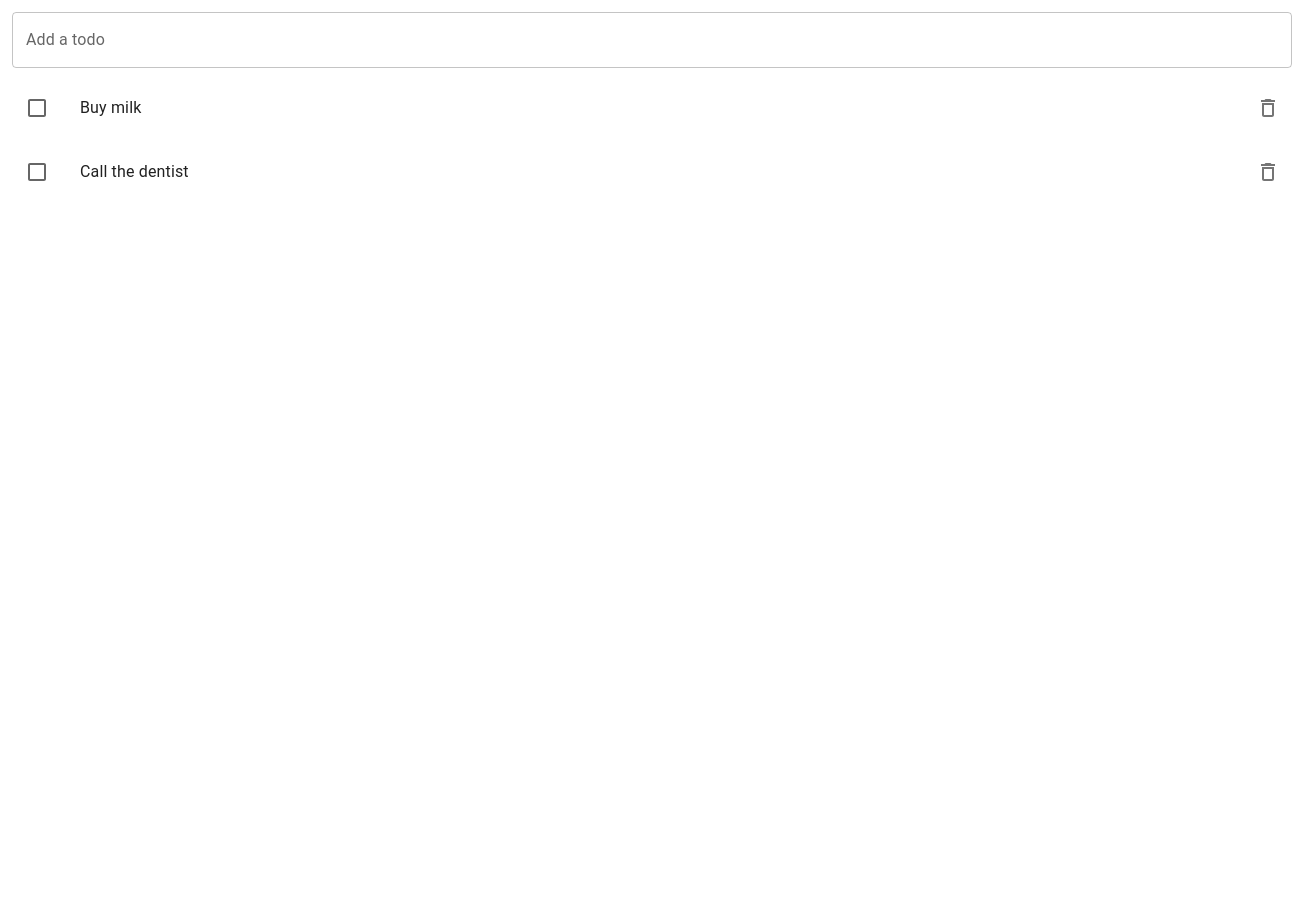
deleting a todo takes it off the page right away and deletes it
Step 1. Click the button named "Delete Buy milk" → (1268, 108), box x1=1248 y1=88 x2=1288 y2=128
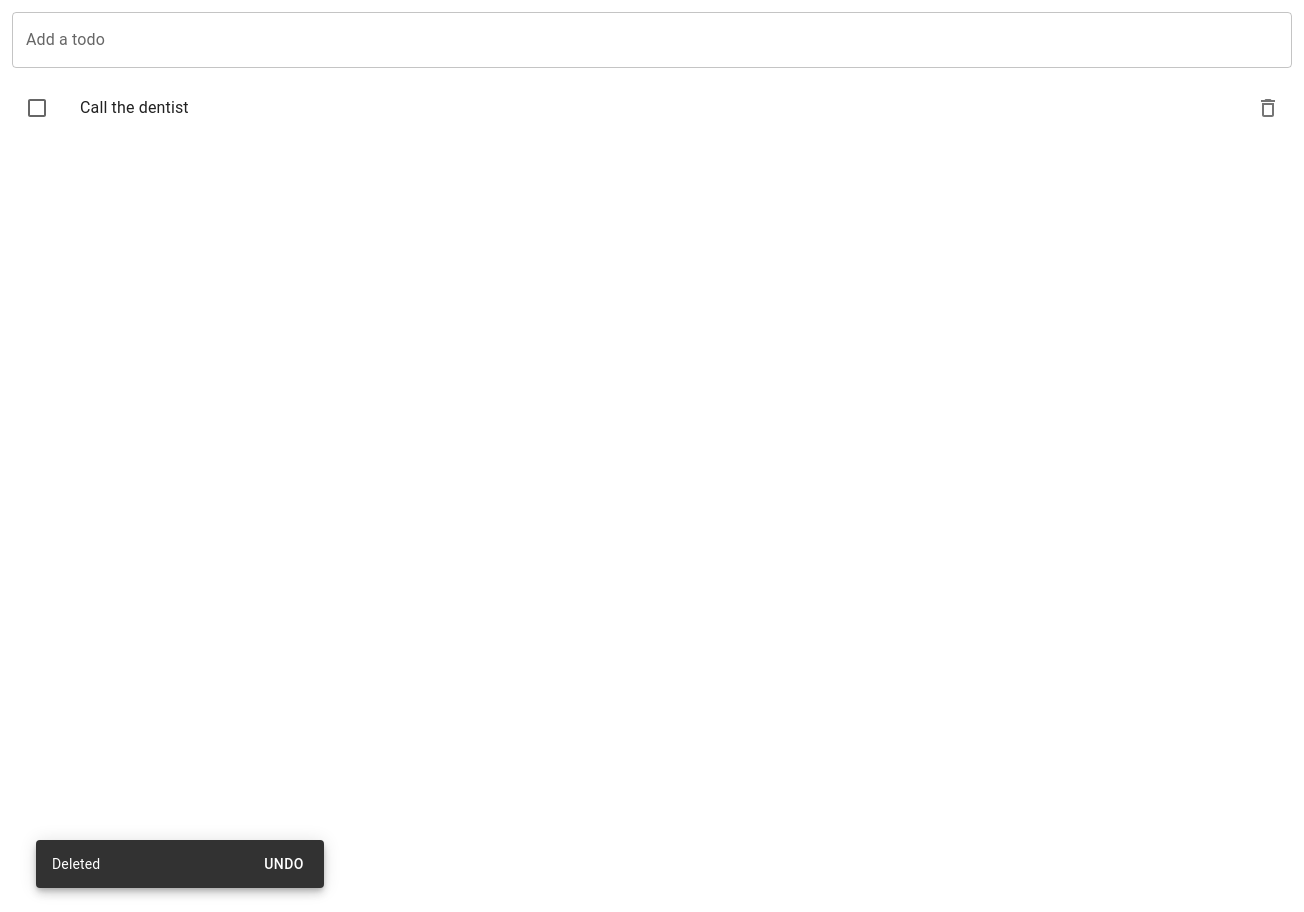
Expected: the text "Call the dentist" is shown, x1=80 y1=98 x2=189 y2=117
Now the button "Buy milk" is gone
